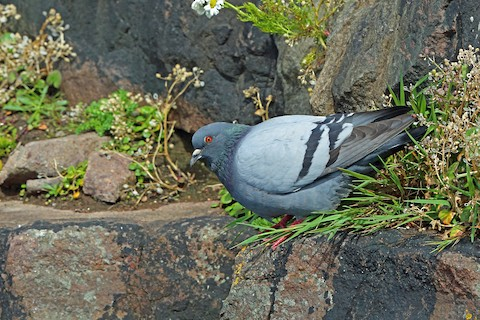pigeon: (183, 95, 436, 249)
